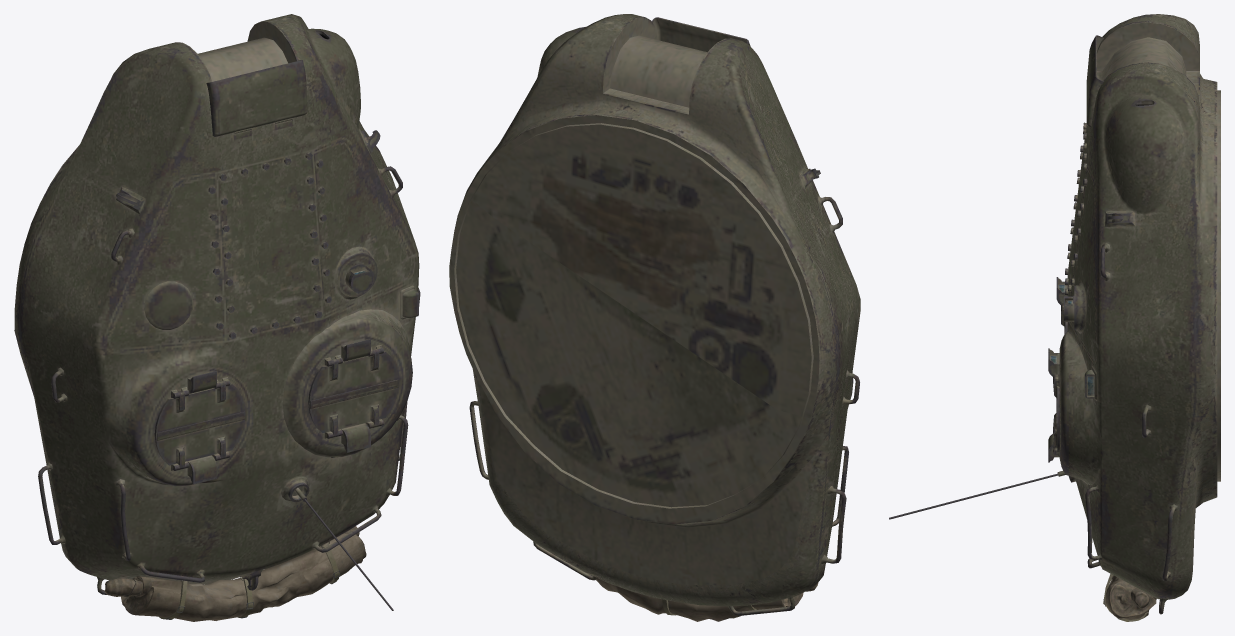
File: Turret_01.glb
3 renders of one model, left to right at view 1: azimuth 30°, elevation 25°; view 2: azimuth 150°, elevation 25°; view 3: azimuth 270°, elevation 25°, orthographic. The views are drawn at different scales.
Parts seen in each view (by area): view 1: set_0_group_0; view 2: set_0_group_0; view 3: set_0_group_0.
Boxes of the visible parts, left/top/right/bottom form: set_0_group_0: left=14, top=14, right=420, bottom=621; set_0_group_0: left=449, top=14, right=860, bottom=621; set_0_group_0: left=889, top=14, right=1220, bottom=621.
Size of the model in its own units: 2.38 by 3.47 by 1.88.
1 material, 1 textured.
